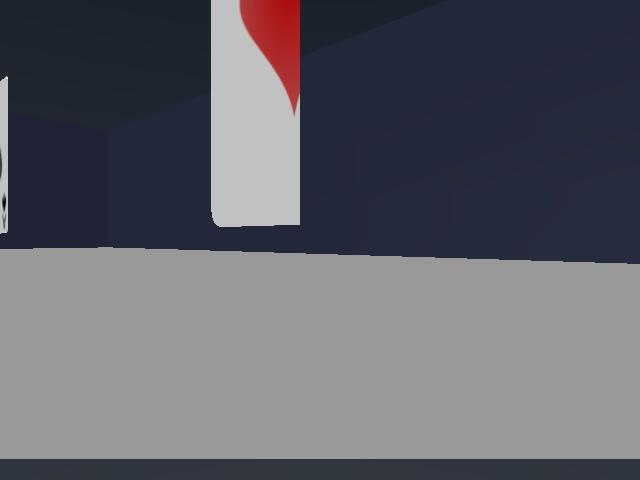spade: (0, 77, 7, 233)
